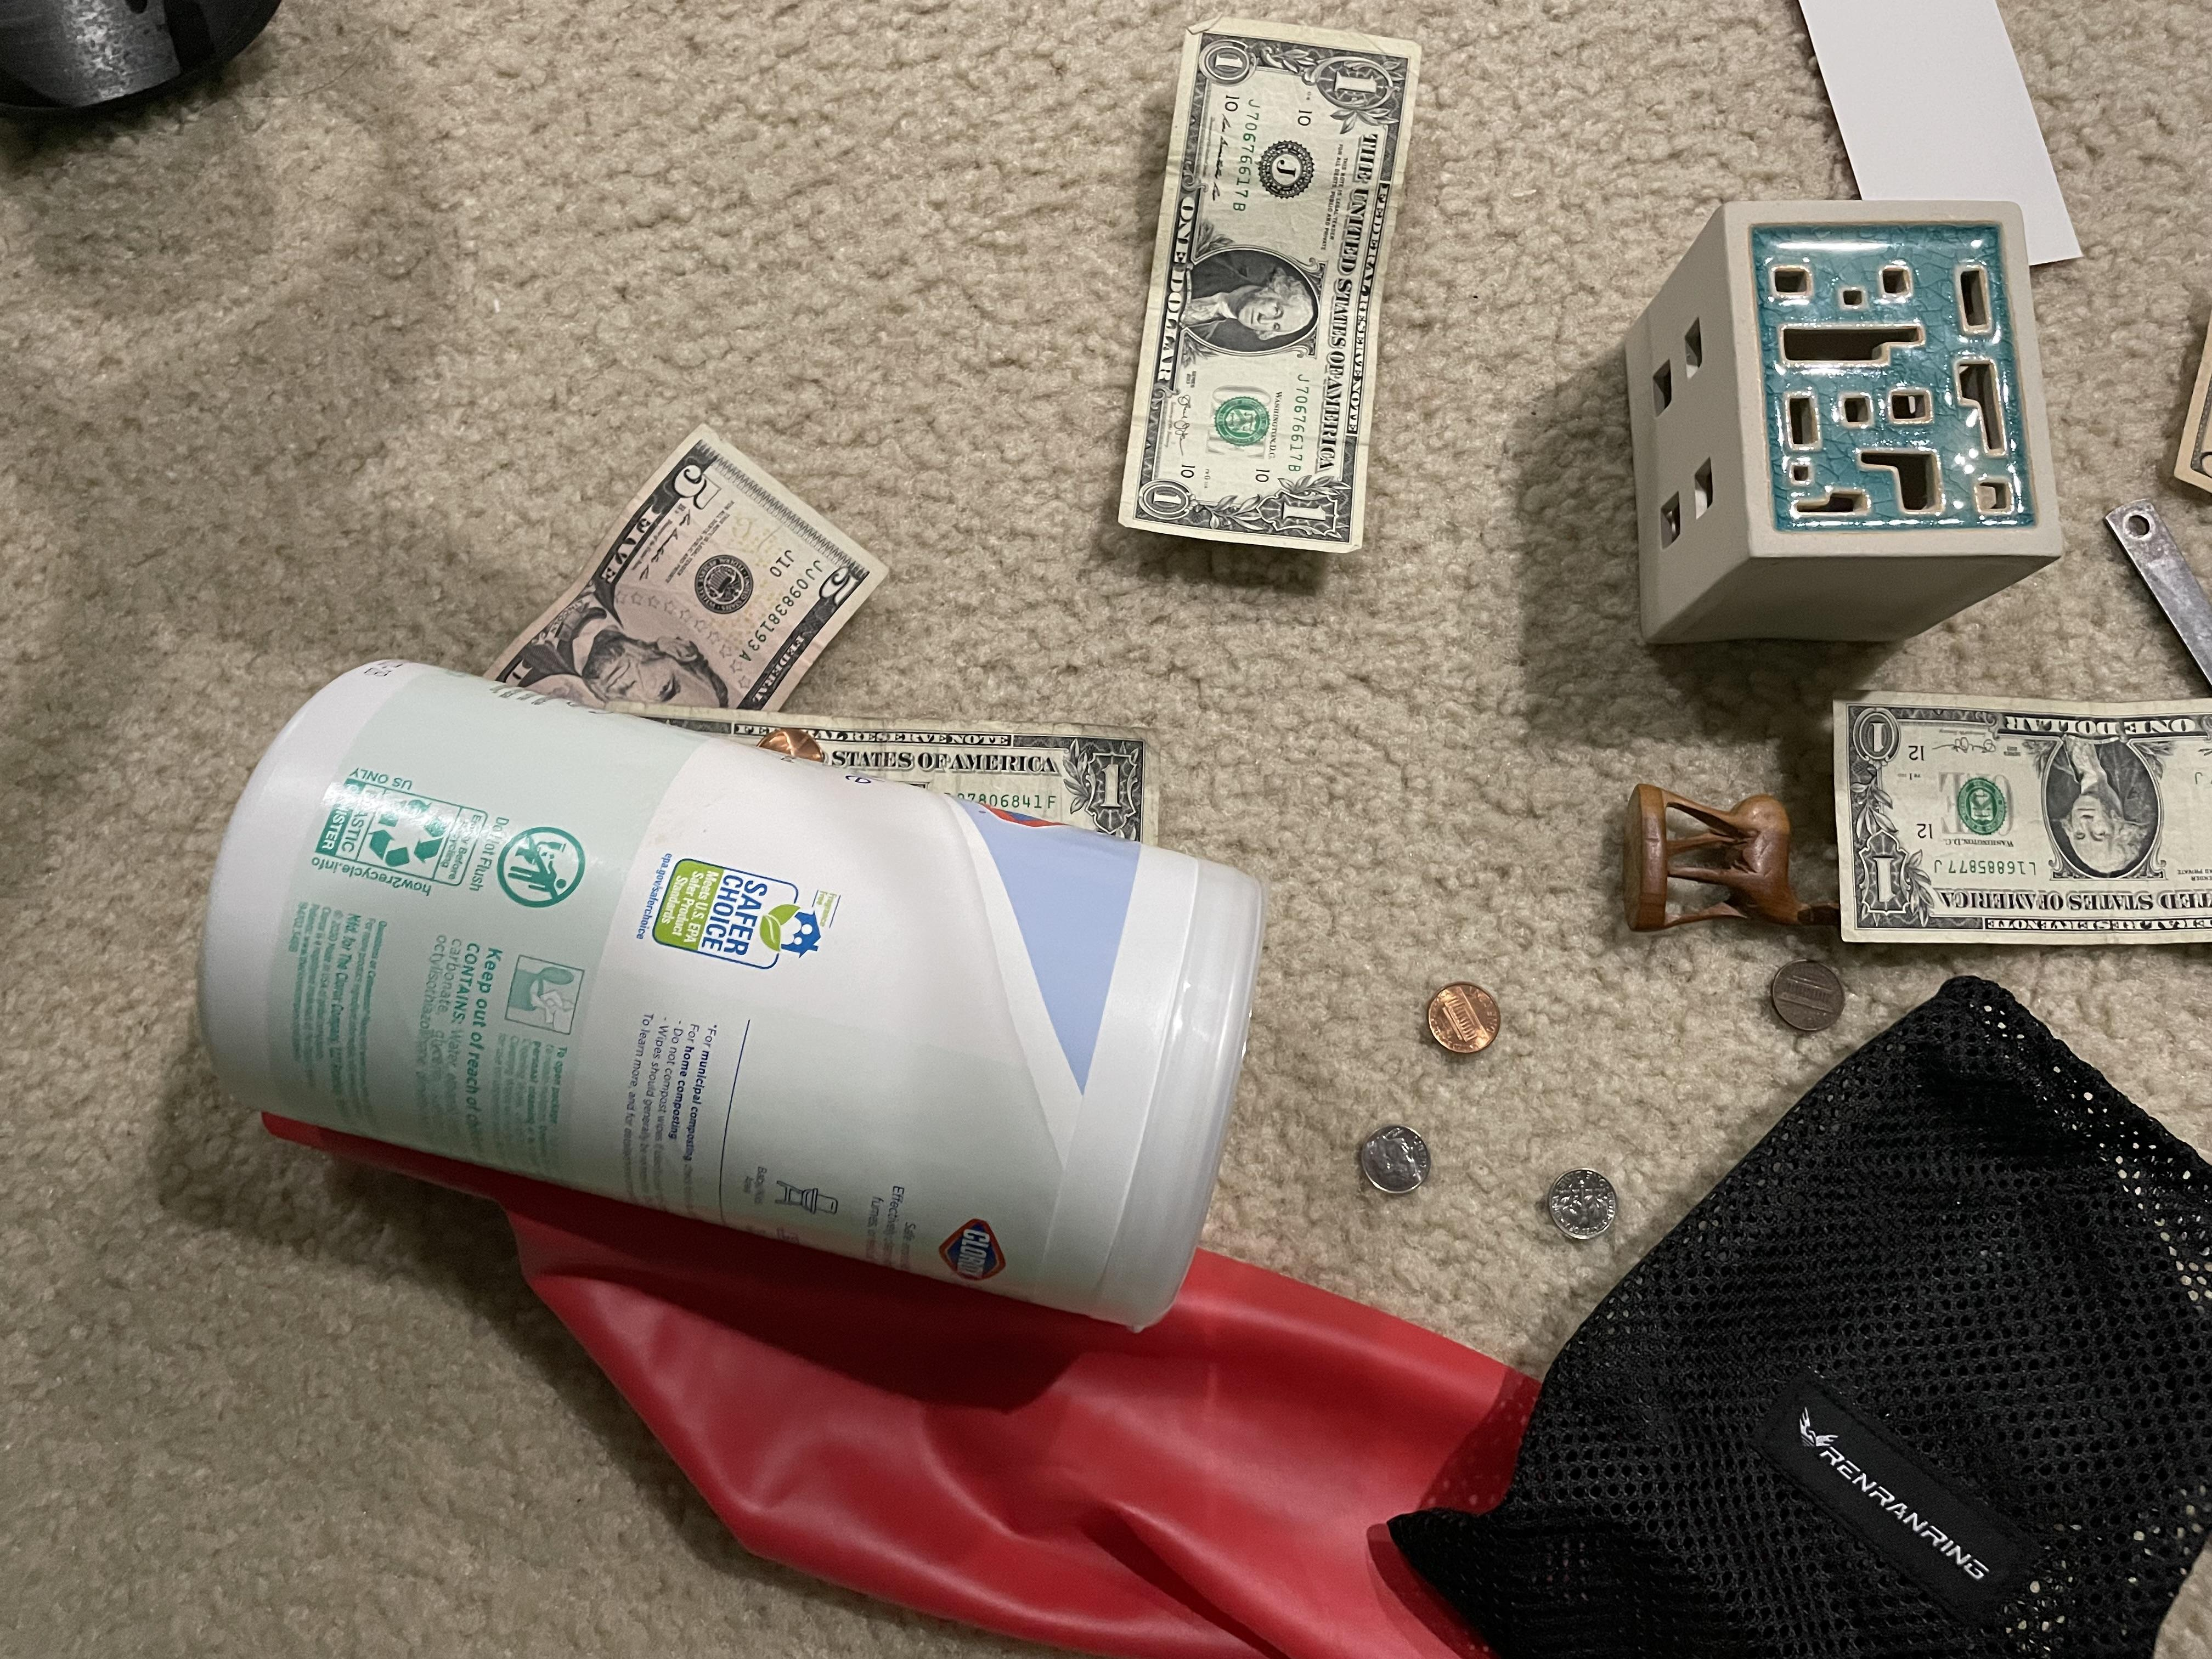Dime: (1545, 1162, 1620, 1246), (1360, 1114, 1426, 1194)
FiveBill: (456, 423, 874, 718)
OneBill: (1127, 10, 1430, 587), (1824, 687, 2210, 958)
Penny: (1766, 957, 1857, 1049), (1426, 978, 1510, 1060)
